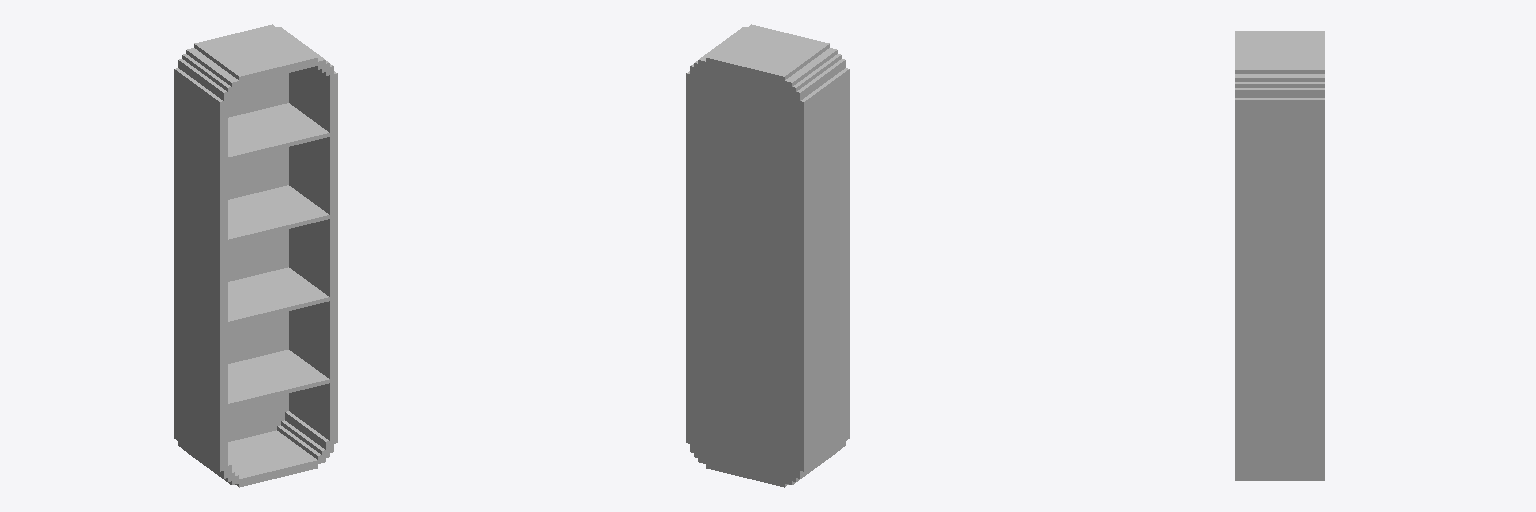
The model's file is Bath_Shelf.obj.
3 renders of one model, left to right at view 1: azimuth 30°, elevation 25°; view 2: azimuth 150°, elevation 25°; view 3: azimuth 270°, elevation 25°, orthographic.
Visible parts, largest first — view 1: Bath_Shelf; view 2: Bath_Shelf; view 3: Bath_Shelf.
Part boxes in pixels (x1,y1,x2,y2): Bath_Shelf: (174, 24, 337, 487); Bath_Shelf: (686, 24, 849, 487); Bath_Shelf: (1235, 31, 1324, 480).
Size of the model in its own units: 30 by 100 by 20.